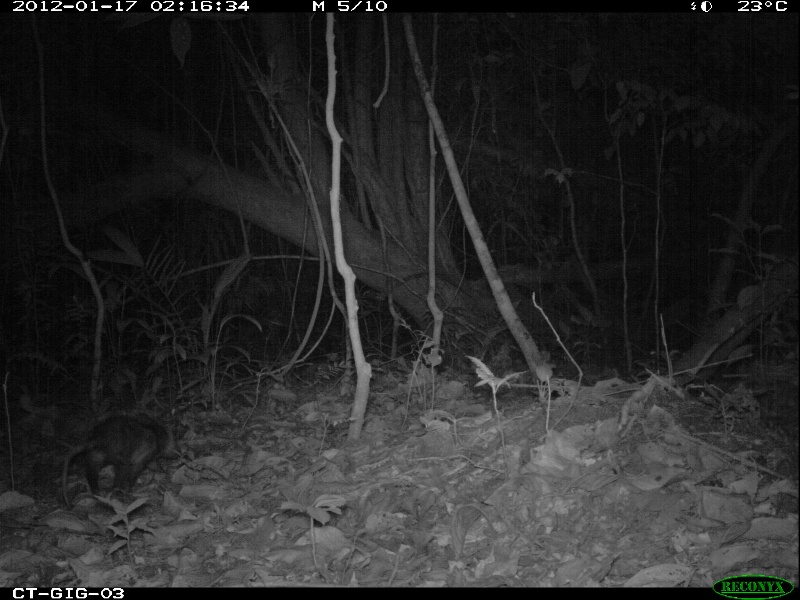opossum: (52, 409, 196, 514)
